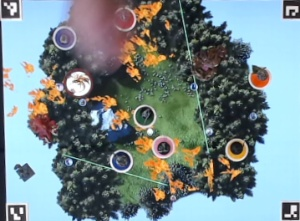blue: (108, 147, 134, 172)
green: (130, 102, 158, 128)
orange: (247, 65, 273, 90)
pink: (148, 136, 177, 158)
red: (109, 5, 139, 32)
violet: (50, 25, 77, 50)
yellow: (224, 136, 251, 163)
